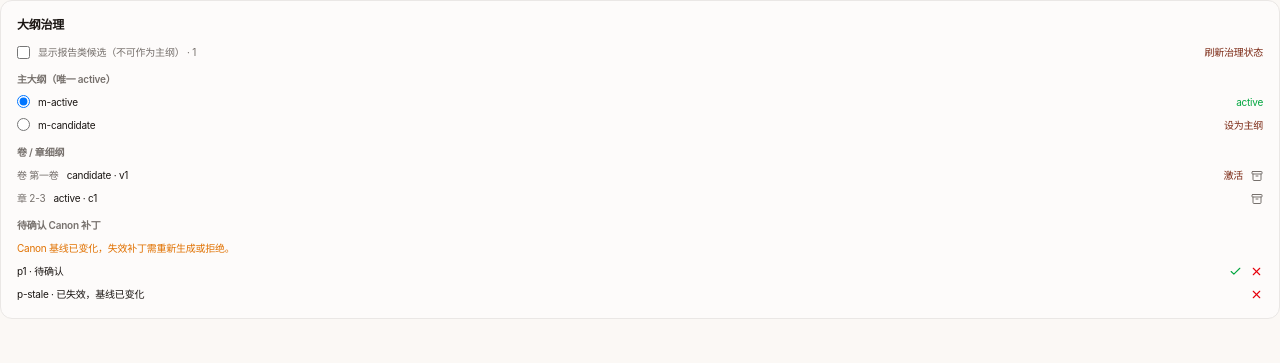
Test: OutlineGovernancePanel › refreshes and exposes stale state when accepting a stale pending patch
The image size is (1280, 363).
Expected: the text "p1 · 待确认" is shown, x1=17 y1=265 x2=64 y2=277
Click the button named "接受补丁" at (1236, 272), box x1=1229 y1=265 x2=1242 y2=278
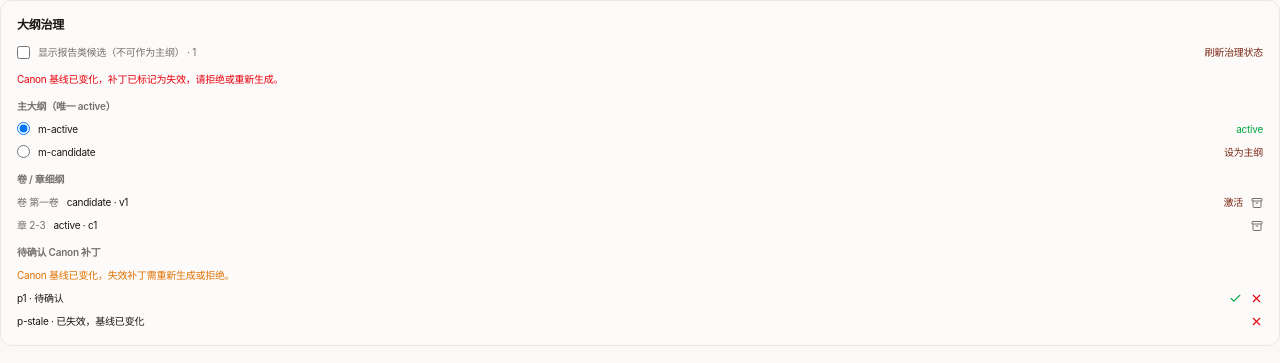
Result: the text "Canon 基线已变化，补丁已标记为失效，请拒绝或重新生成。" is shown at x1=17 y1=73 x2=283 y2=85
